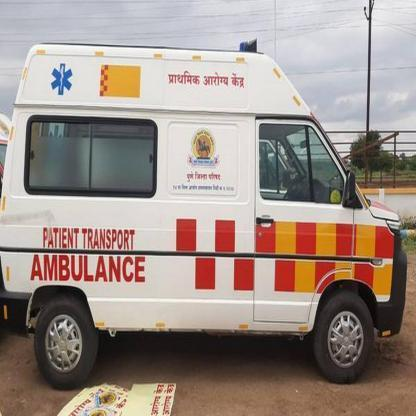Ambulance: (26, 251, 148, 285), (46, 61, 77, 97)
